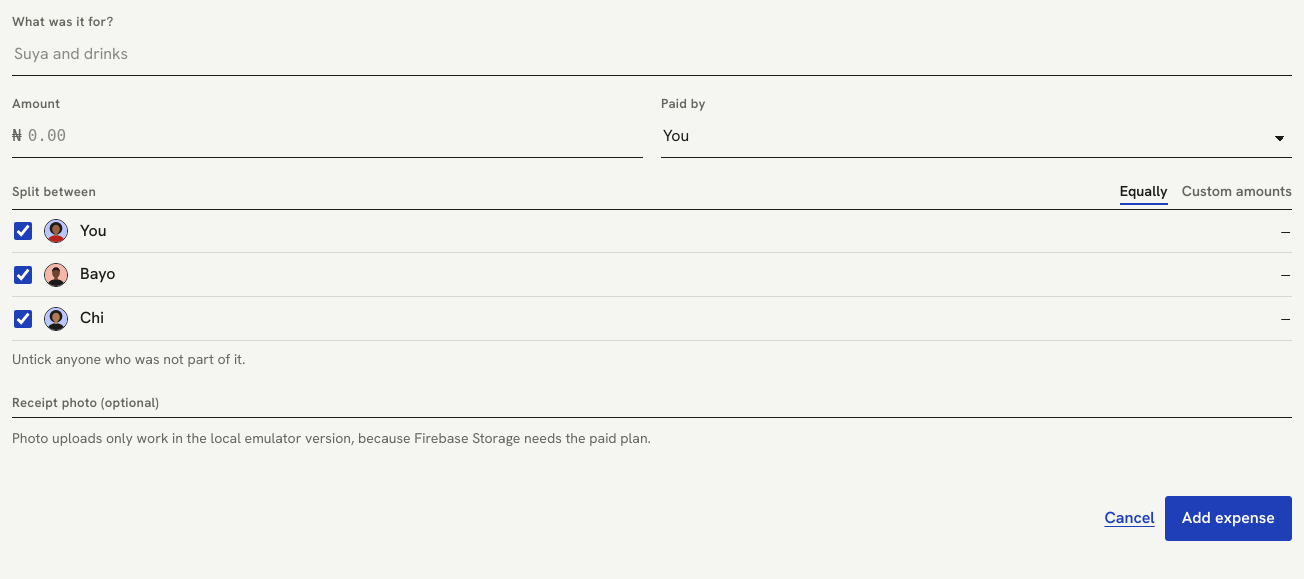
<ExpenseForm> custom amounts › keeps a running total: left to assign, too much, then every kobo assigned
The width and height of the screenshot is (1304, 579).
In the field labelled "What was it for?": x=652, y=55 [12,34,1292,76], type "Jollof lunch"
In the field labelled "Amount": x=334, y=137 [26,116,643,157], type "100"
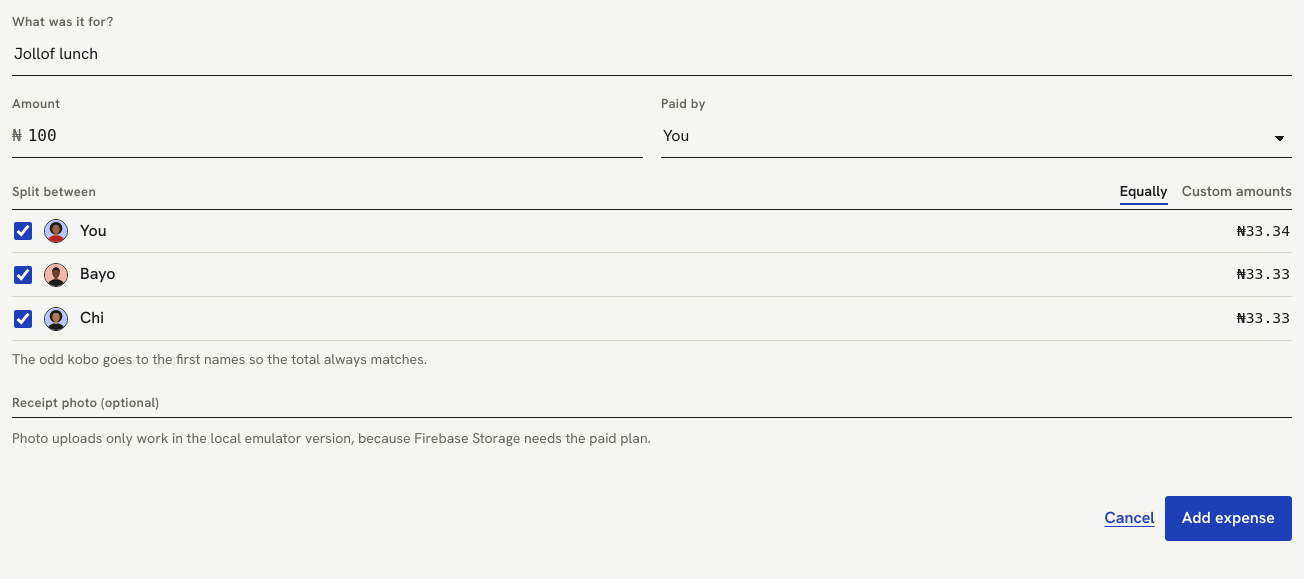
Click the button "Custom amounts": x=1237, y=192 [1182,180,1292,205]
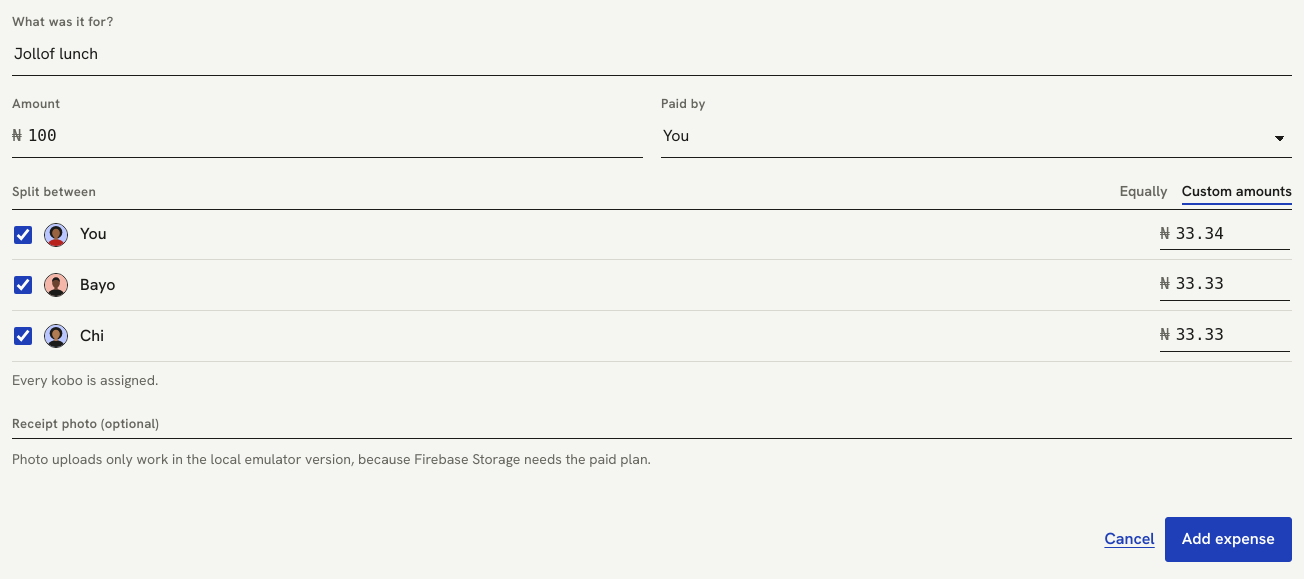
Replace the text in the field named "Amount for You" with "50": x=1232, y=234 [1174,219,1290,249]
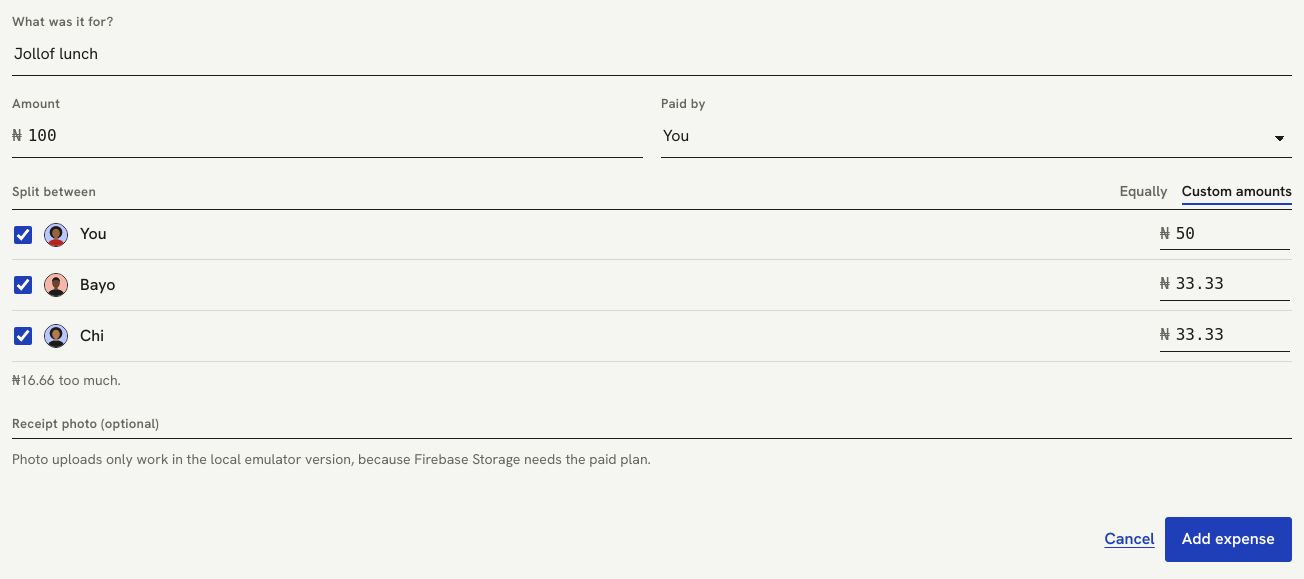
Replace the text in the field named "Amount for Bayo" with "30": x=1232, y=285 [1174,269,1290,300]
Clear the field named "Amount for Chi": x=1232, y=336 [1174,320,1290,351]
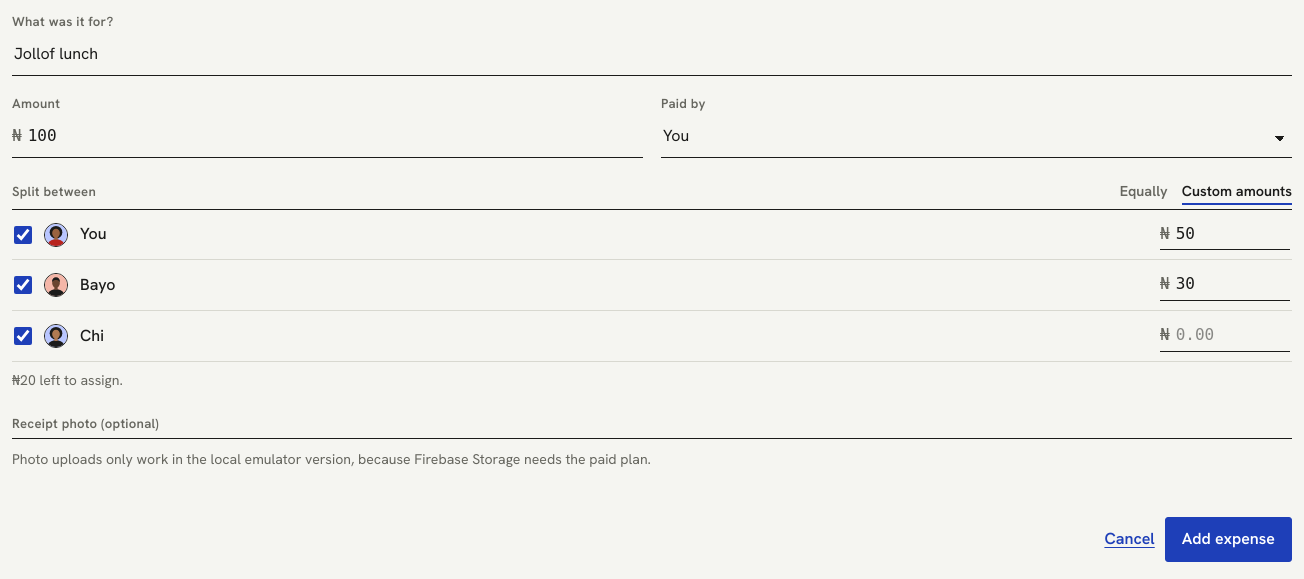
Check: the text "₦20 left to assign." is shown, box [12,371,123,389]
In the field named "Amount for Chi": x=1232, y=336 [1174,320,1290,351], type "30"
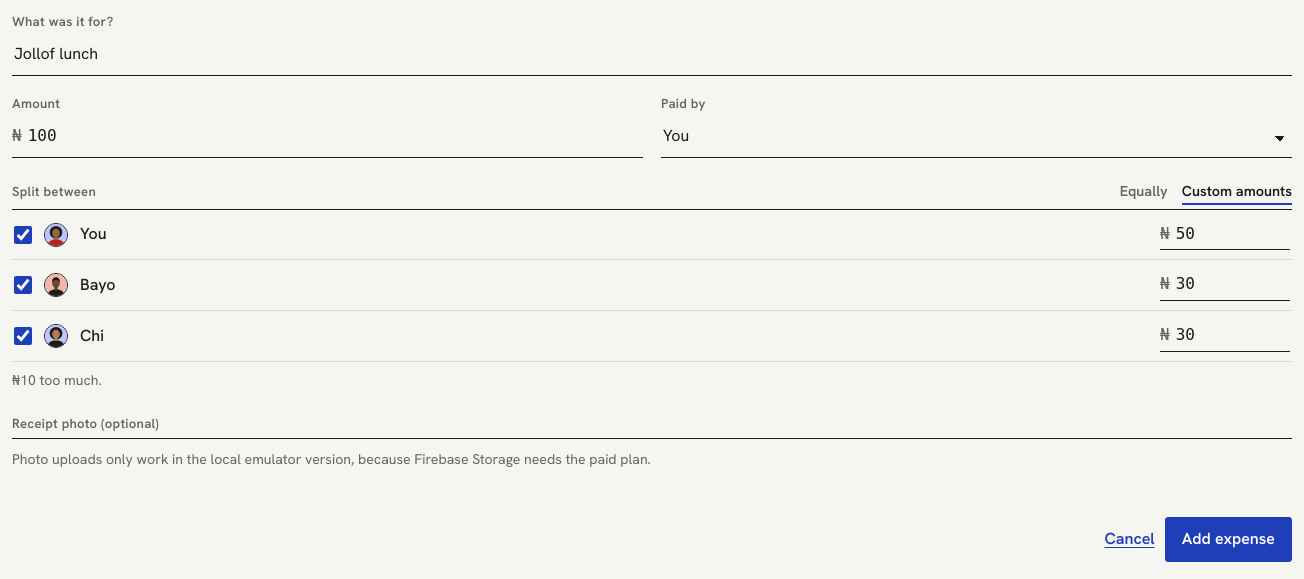
Check: the text "₦10 too much." is shown, box [12,371,102,389]
Replace the text in the field named "Amount for Chi" with "20": x=1232, y=336 [1174,320,1290,351]
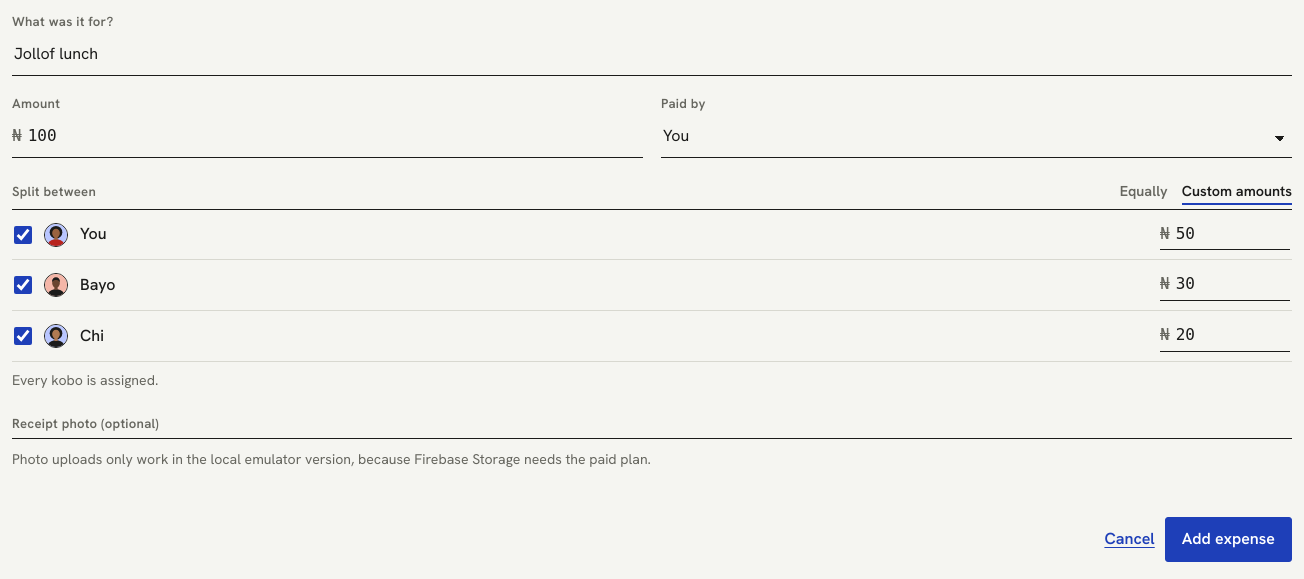
Check: the text "Every kobo is assigned." is shown, box [12,371,158,389]
